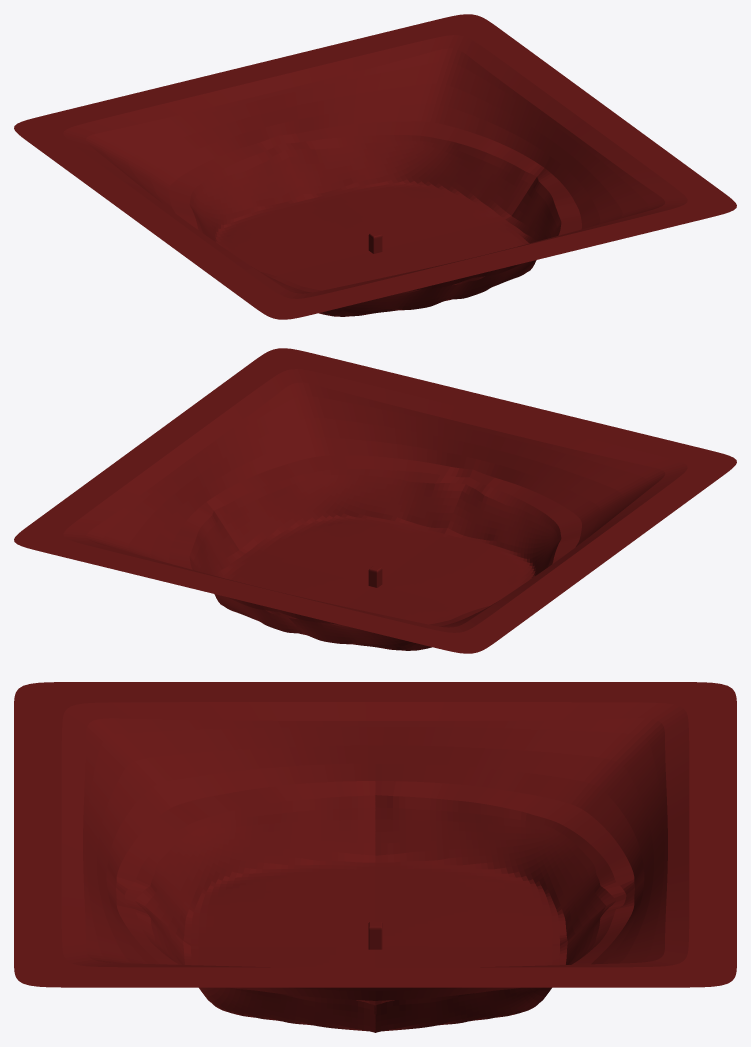
File: map.fbx
3 renders of one model, top to bottom at view 1: azimuth 30°, elevation 25°; view 2: azimuth 150°, elevation 25°; view 3: azimuth 270°, elevation 25°, orthographic. The views are drawn at different scales.
Parts seen in each view (by area): view 1: Plane; view 2: Plane; view 3: Plane.
Boxes of the visible parts, x1,y1,x2,y2 form: Plane: (14,14,736,319); Plane: (14,348,736,653); Plane: (14,682,736,1032).
Bounding box in the file's own units: 51813 × 9110 × 51813.
